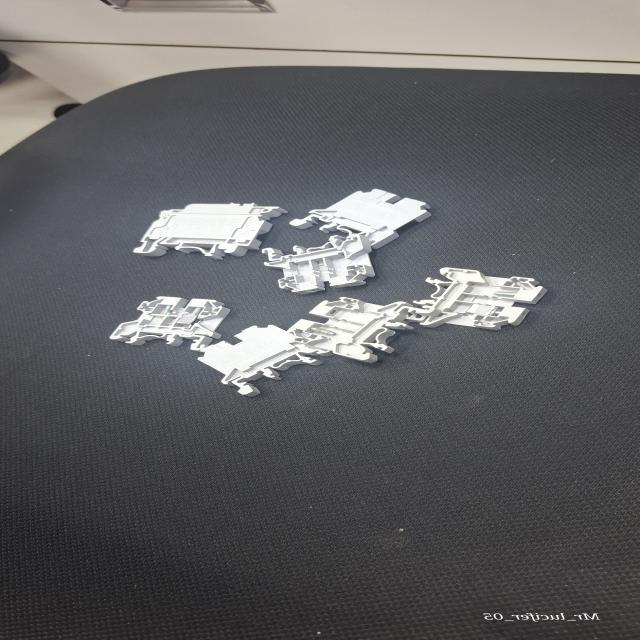Inverted: (283, 188, 433, 248), (199, 323, 316, 398)
Reject: (412, 266, 548, 332), (292, 296, 423, 364), (259, 234, 370, 295), (110, 296, 234, 350)
